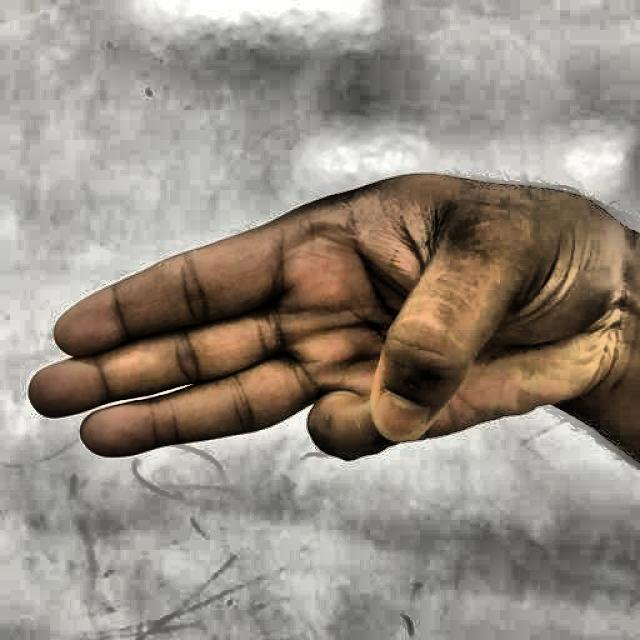Ma: (21, 157, 619, 497)
